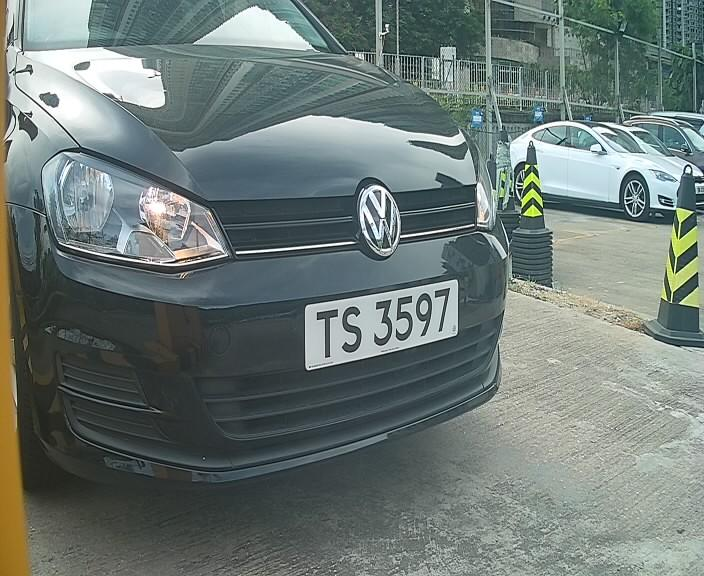License Plate: (299, 276, 463, 368)
